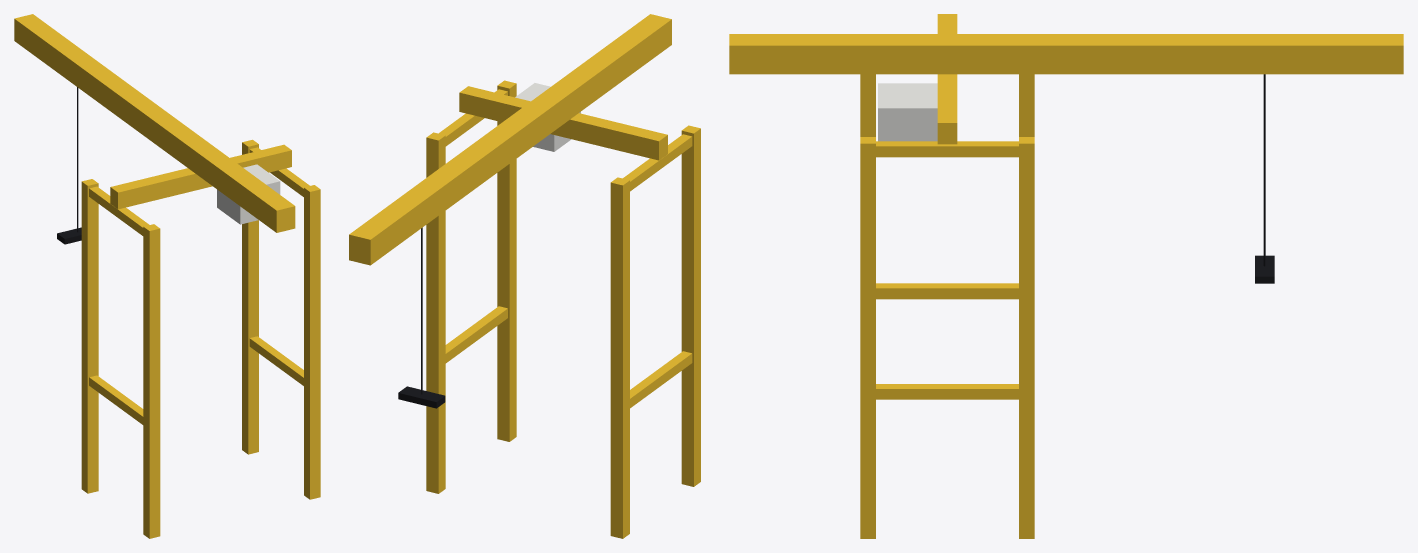
File: prop_crane.glb
3 views of the same model, side by side, from view 1: azimuth 30°, elevation 25°; view 2: azimuth 150°, elevation 25°; view 3: azimuth 270°, elevation 25° (orthographic). The views are drawn at different scales.
Visible parts, largest first — view 1: prop_crane__mesh; view 2: prop_crane__mesh; view 3: prop_crane__mesh.
Boxes of the visible parts, x1,y1,x2,y2 form: prop_crane__mesh: [14, 14, 320, 538]; prop_crane__mesh: [349, 14, 700, 538]; prop_crane__mesh: [729, 14, 1403, 538].
Bounding box in the file's own units: 13 × 24.8 × 34.
